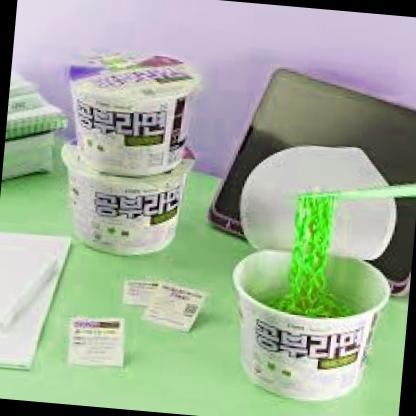Ramen: (224, 244, 403, 415), (54, 49, 207, 184), (51, 136, 204, 262)
